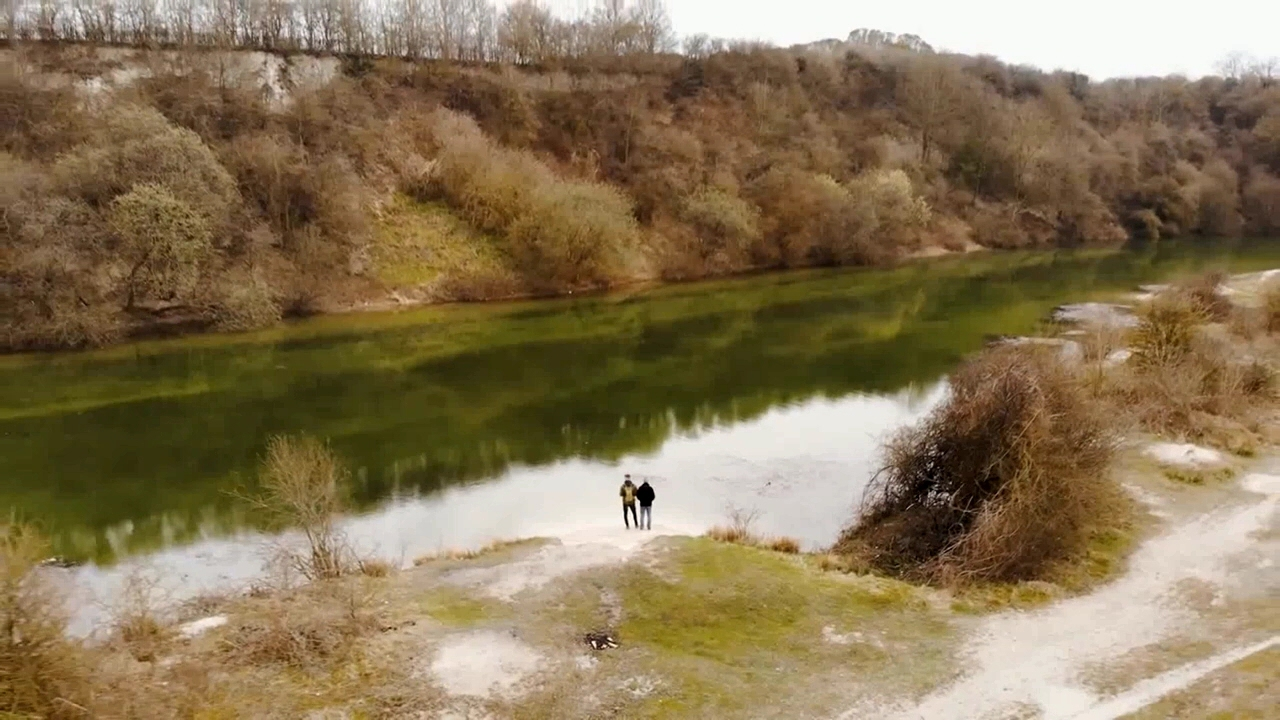insan: (618, 470, 644, 532), (639, 476, 655, 533)
